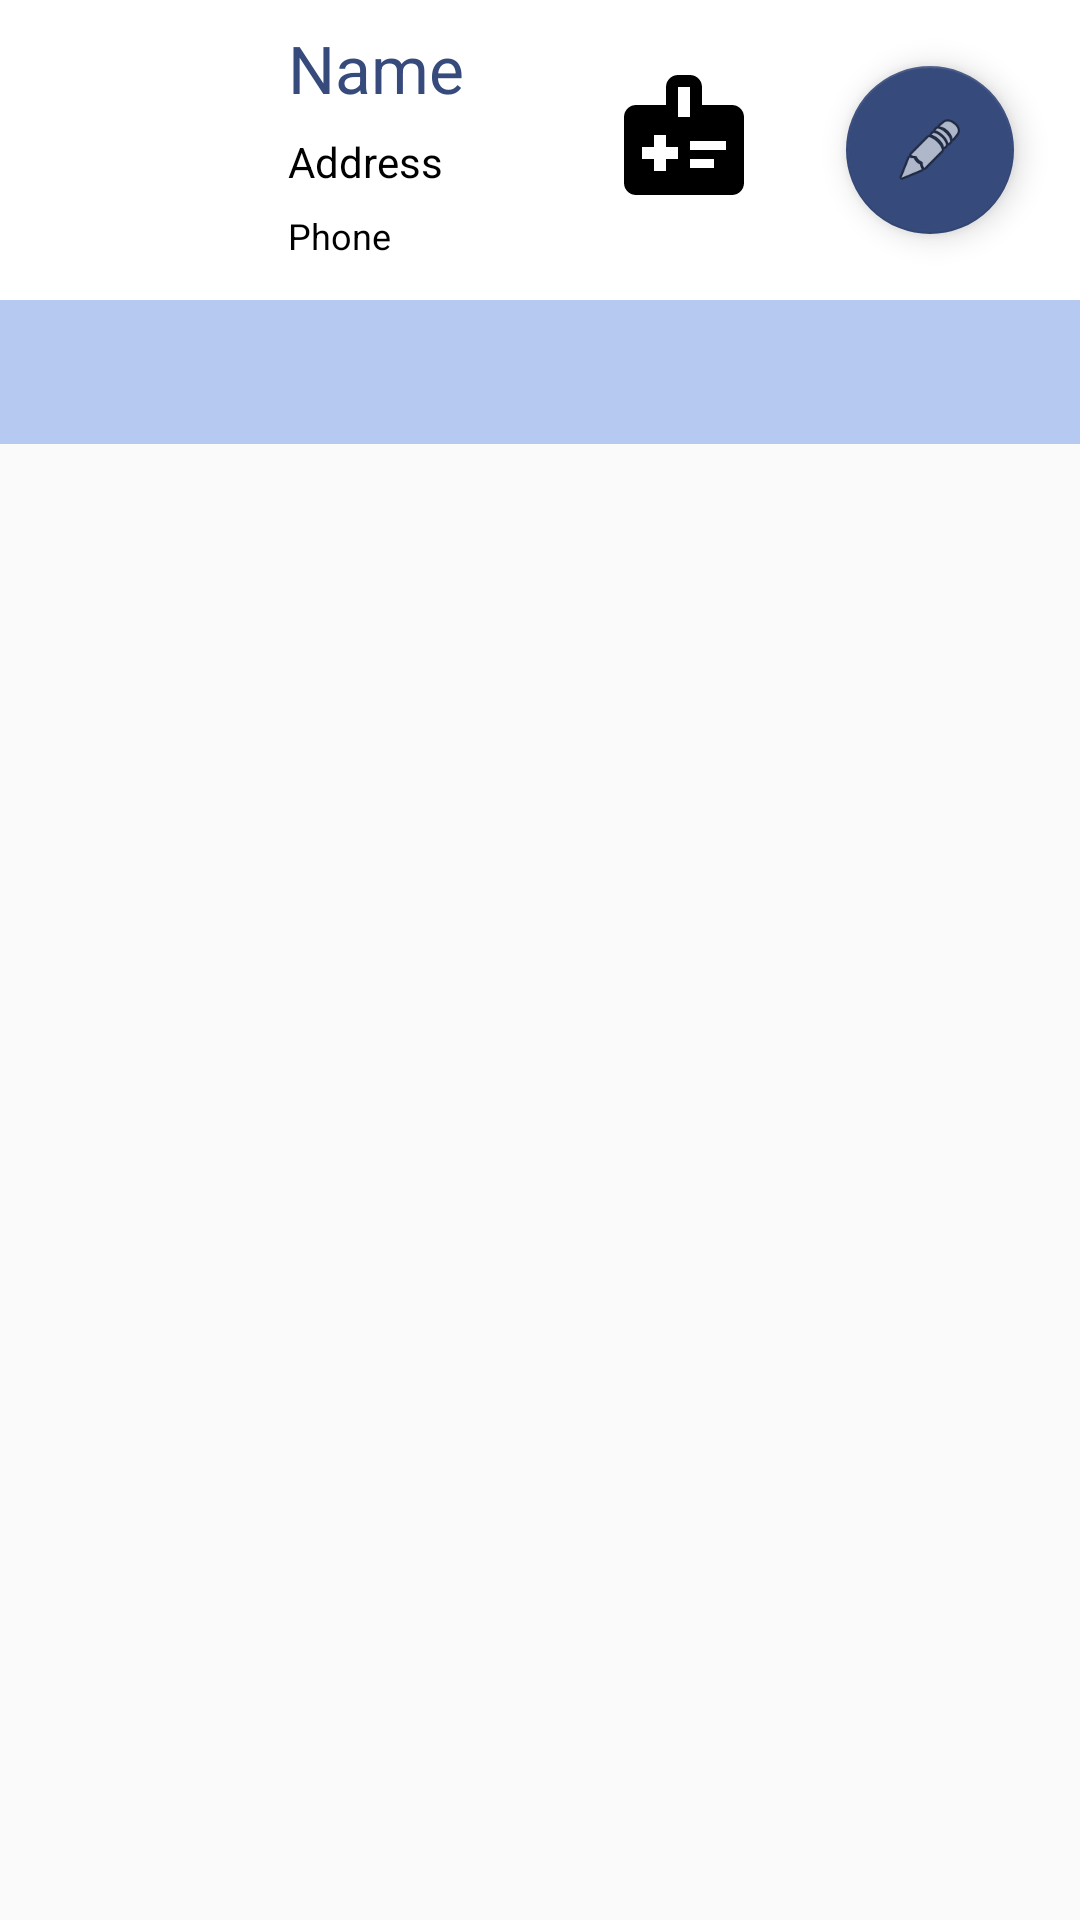

Point at icon controls on the screen. Image size 1080w x 1920h, points as (x=x, y=y).
edit: (x=930, y=150)
medical information: (x=684, y=135)
